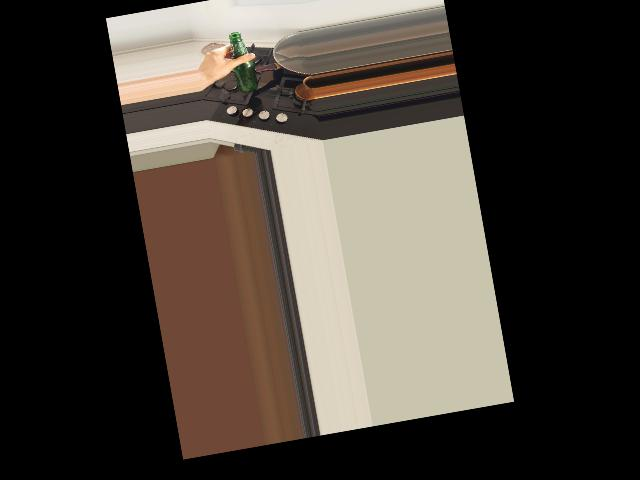beer: (228, 30, 258, 94)
